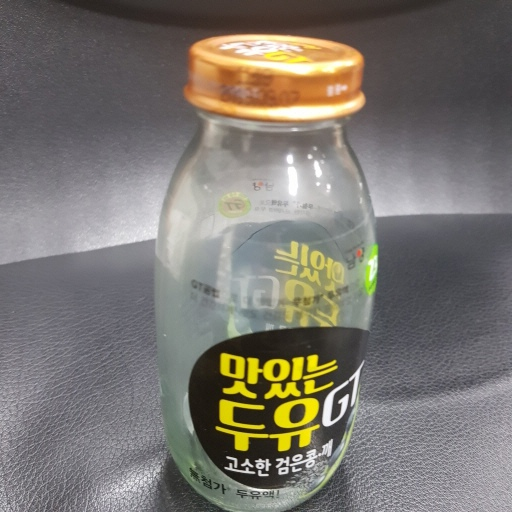Glass_4: (136, 25, 386, 512)
